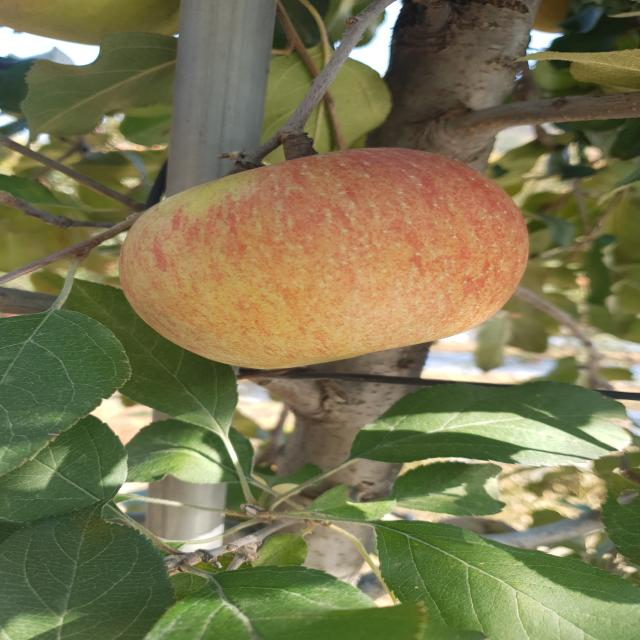fresh: (101, 139, 548, 379)
